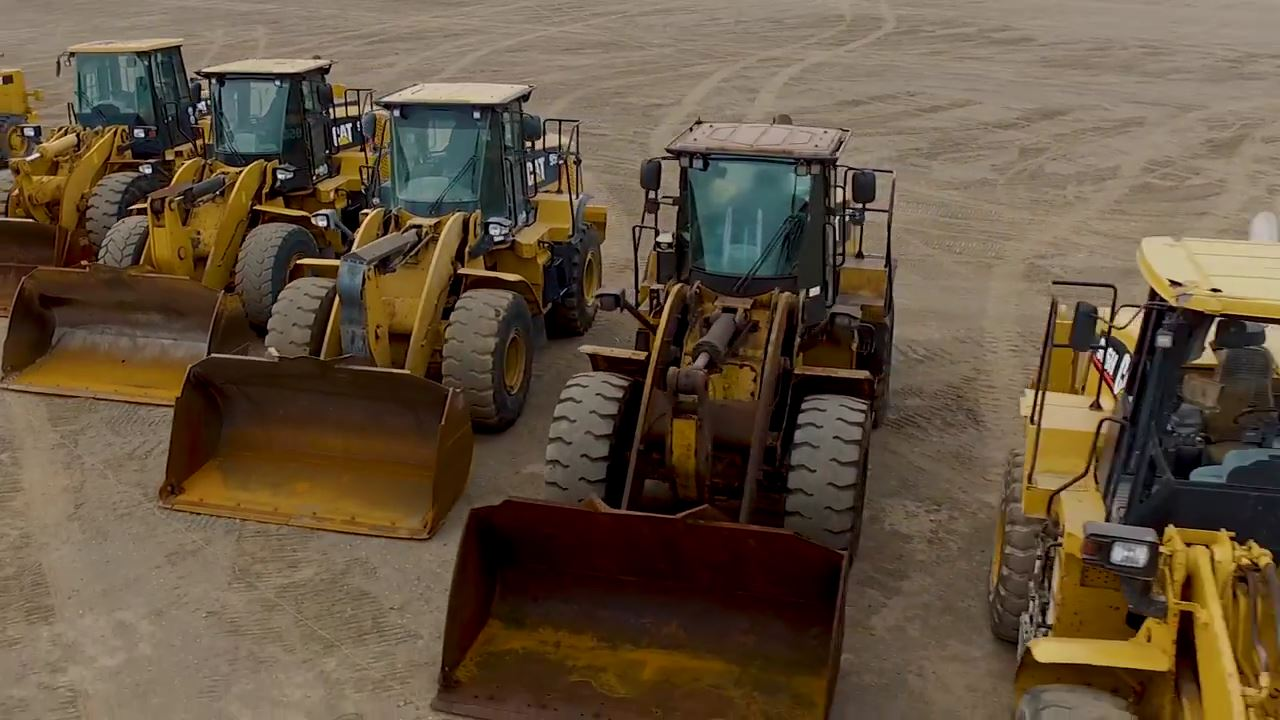con_eq: (430, 107, 899, 712), (163, 72, 606, 538), (7, 59, 379, 409), (994, 226, 1216, 715), (6, 34, 215, 274)
